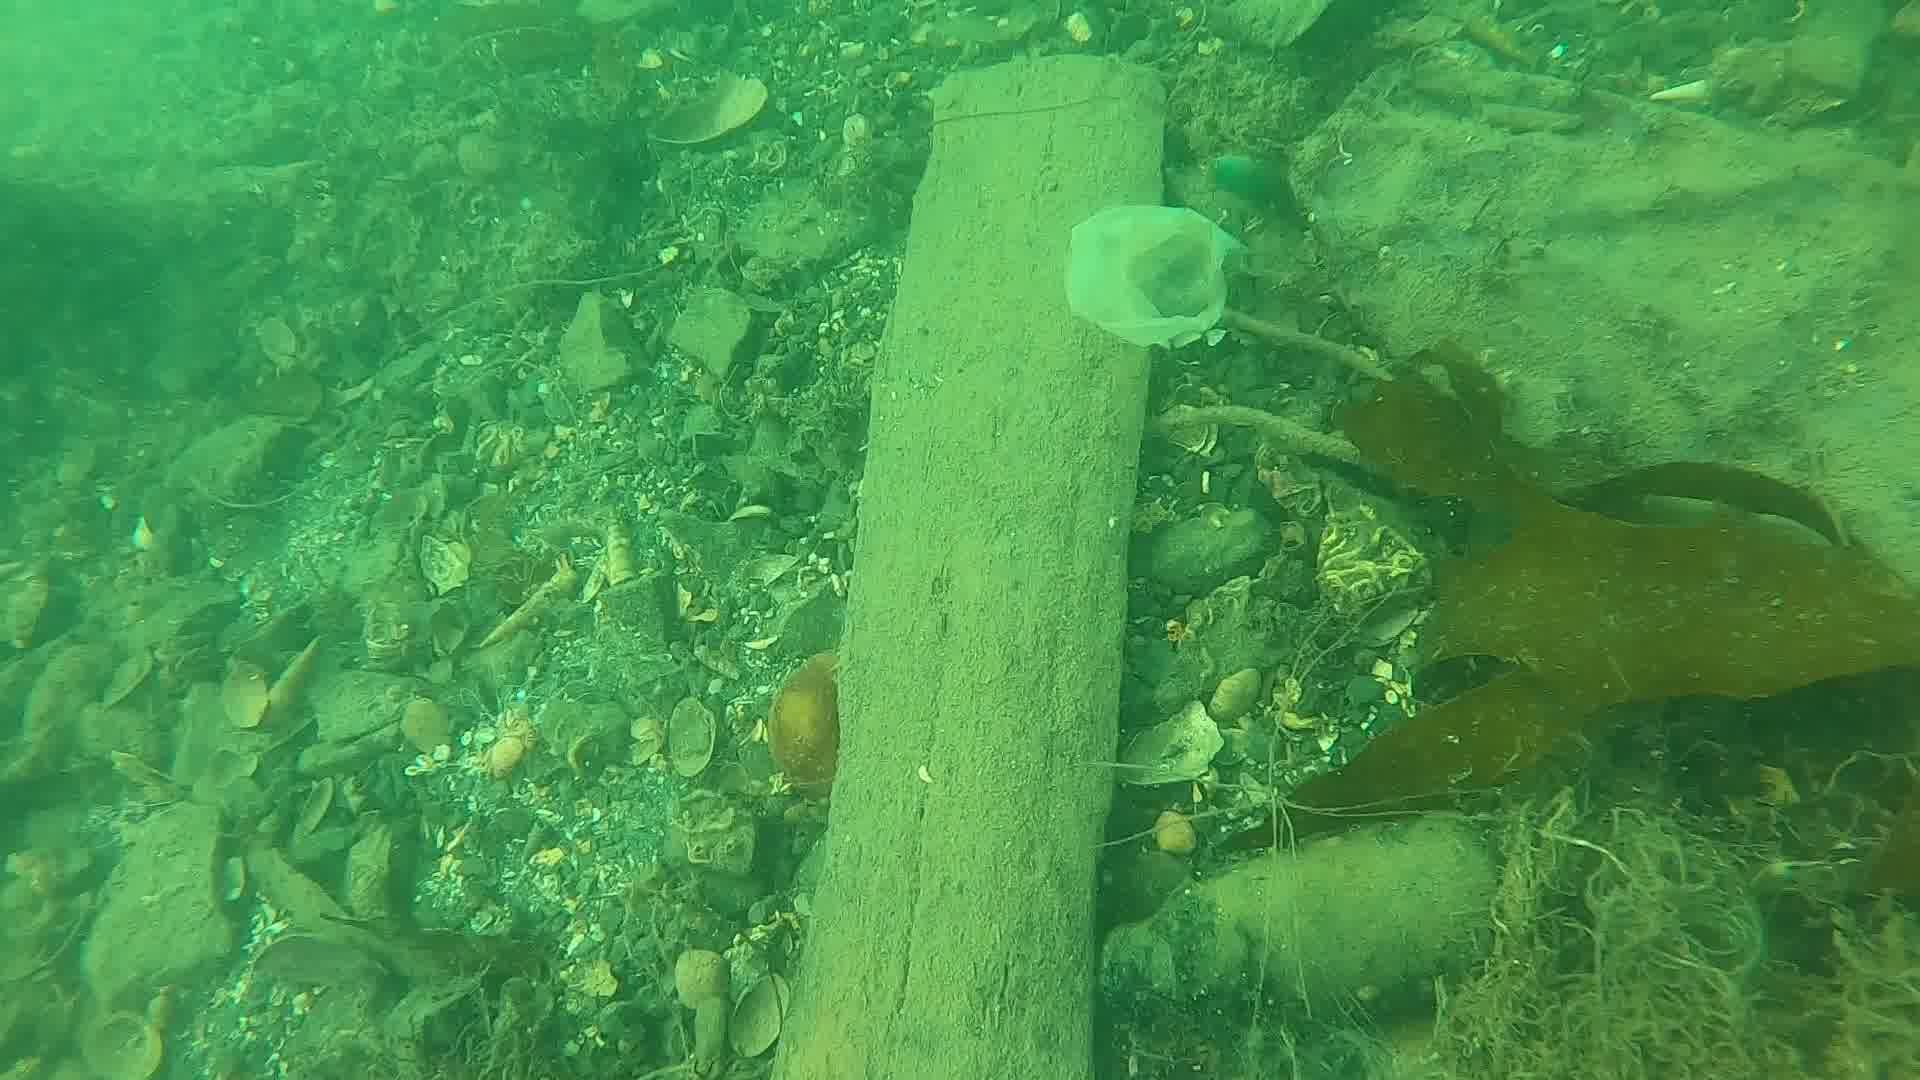wood: (765, 53, 1168, 1080)
